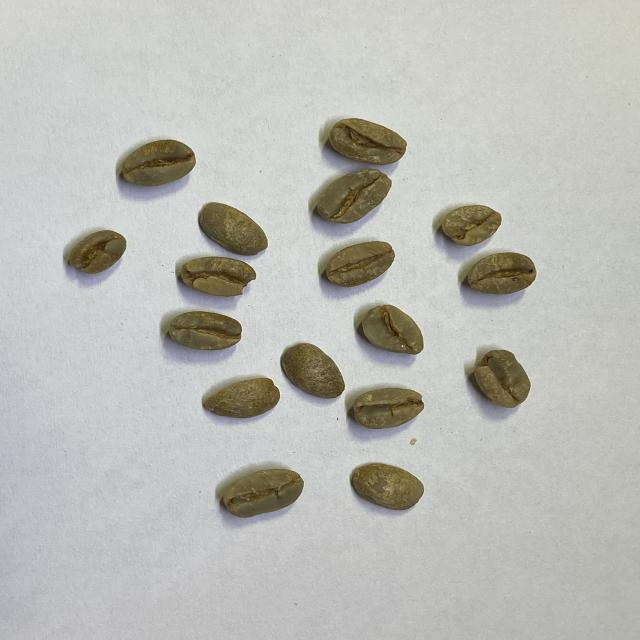bad: (221, 466, 304, 517), (471, 349, 530, 409), (360, 305, 424, 357), (180, 257, 257, 297), (440, 203, 503, 248), (68, 230, 126, 275)
good: (314, 168, 392, 227), (328, 116, 409, 165), (196, 202, 268, 256), (120, 138, 197, 185), (352, 461, 424, 511), (282, 343, 345, 400), (324, 240, 397, 288), (202, 377, 282, 418), (168, 311, 242, 352), (466, 251, 536, 294), (354, 386, 426, 427)
